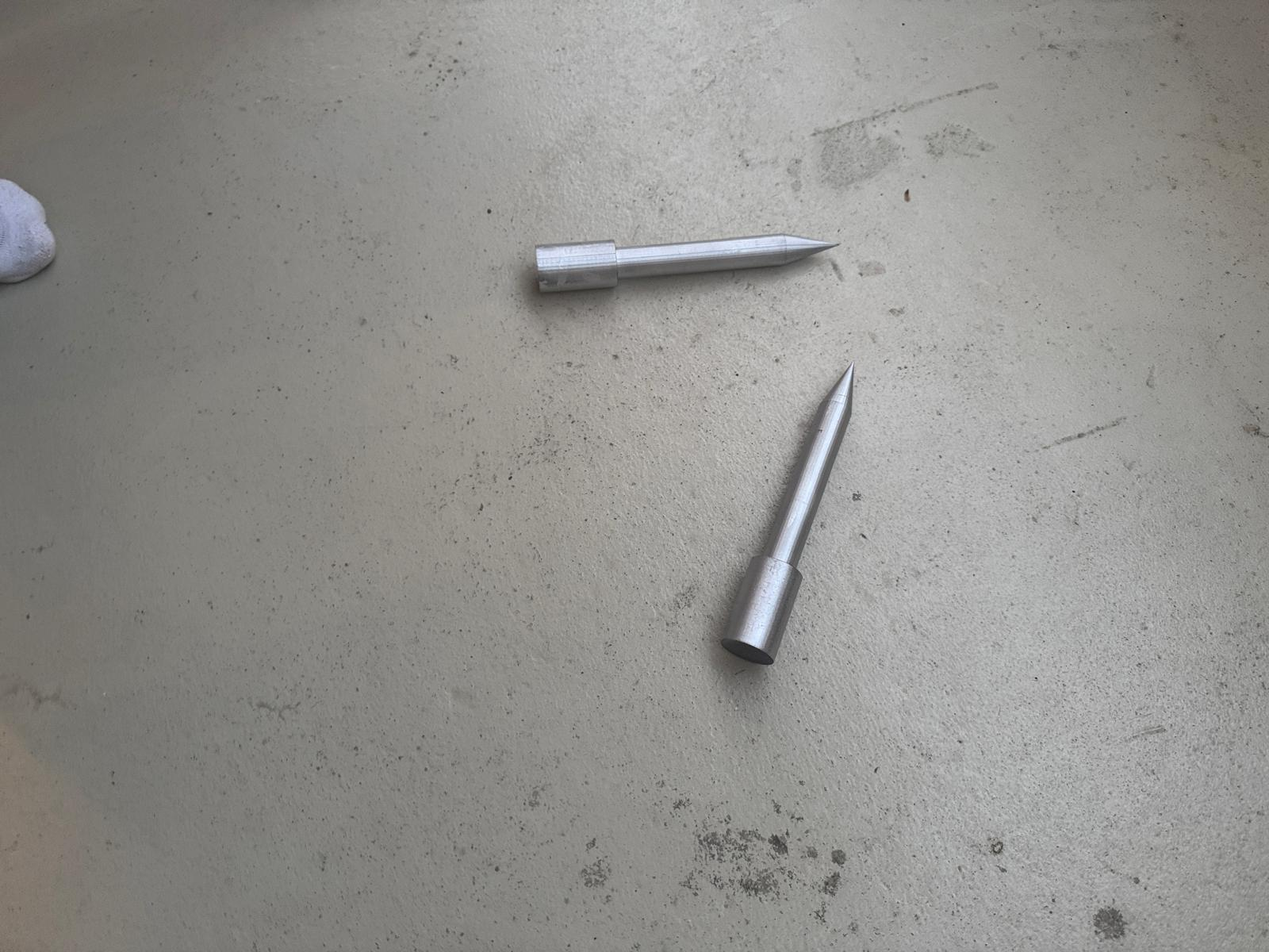probes: (716, 360, 858, 666), (533, 233, 833, 291)
